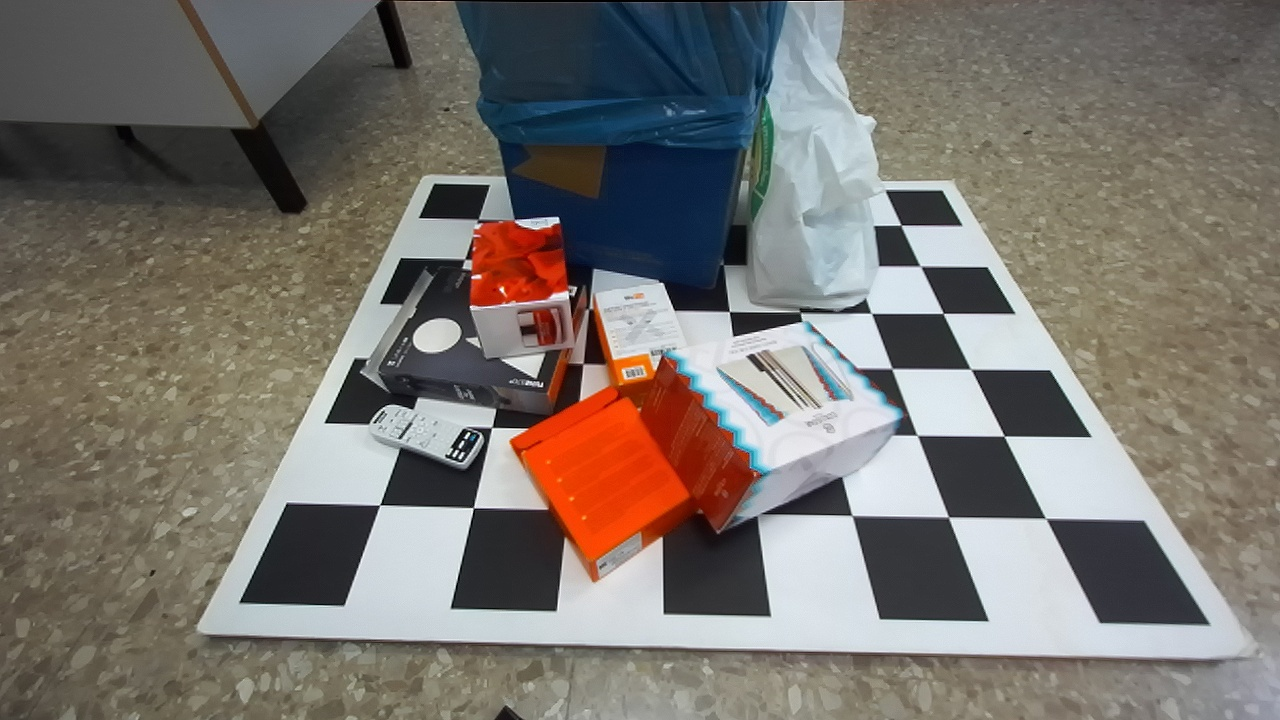caja_busbar: (641, 322, 902, 533)
caja_chasis: (360, 267, 587, 415)
caja_manguera: (510, 387, 693, 581)
caja_pcb: (594, 281, 685, 405)
caja_potencia: (470, 217, 574, 358)
